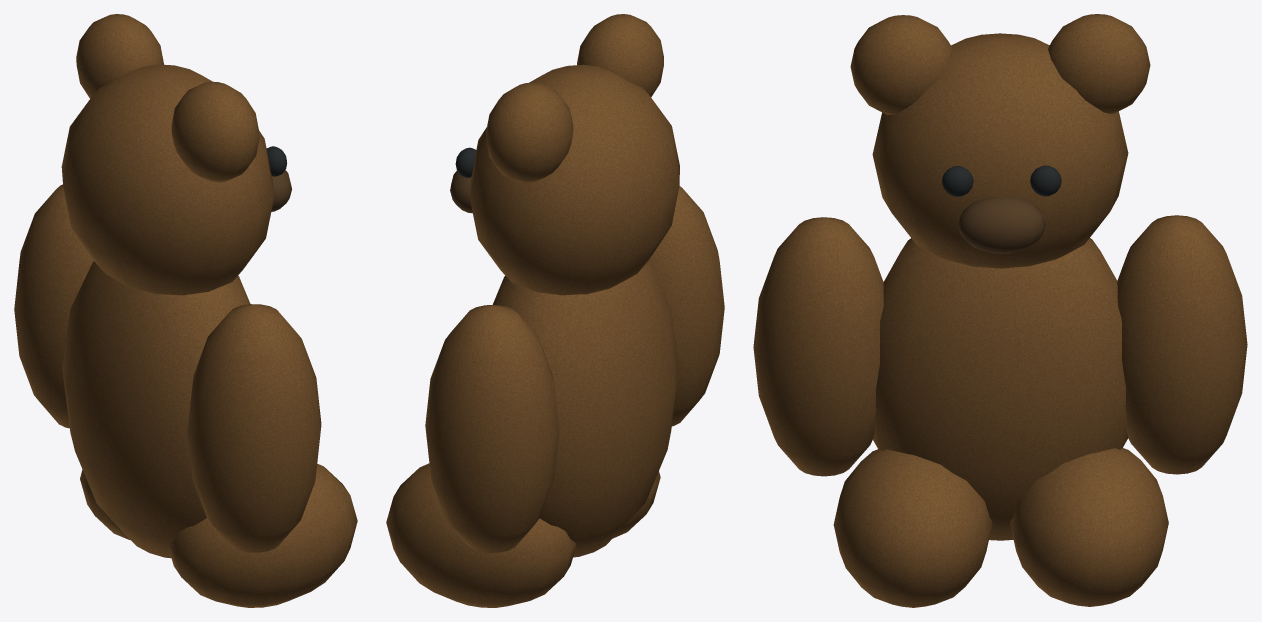
File: SM_TeddyPrize_26e2fbc9c4.fbx
3 renders of one model, left to right at view 1: azimuth 30°, elevation 25°; view 2: azimuth 150°, elevation 25°; view 3: azimuth 270°, elevation 25°, orthographic. The views are drawn at different scales.
Parts seen in each view (by area): view 1: SM_TeddyPrize_26e2fbc9c4; view 2: SM_TeddyPrize_26e2fbc9c4; view 3: SM_TeddyPrize_26e2fbc9c4.
Part boxes in pixels (box(x1,y1,x2,y2)): SM_TeddyPrize_26e2fbc9c4: box(14, 14, 357, 607); SM_TeddyPrize_26e2fbc9c4: box(386, 14, 724, 607); SM_TeddyPrize_26e2fbc9c4: box(753, 14, 1247, 607).
Size of what is drawn, in the model's own units: 29.97 by 53.92 by 66.44.
Materials: 3 (1 with a texture image).
